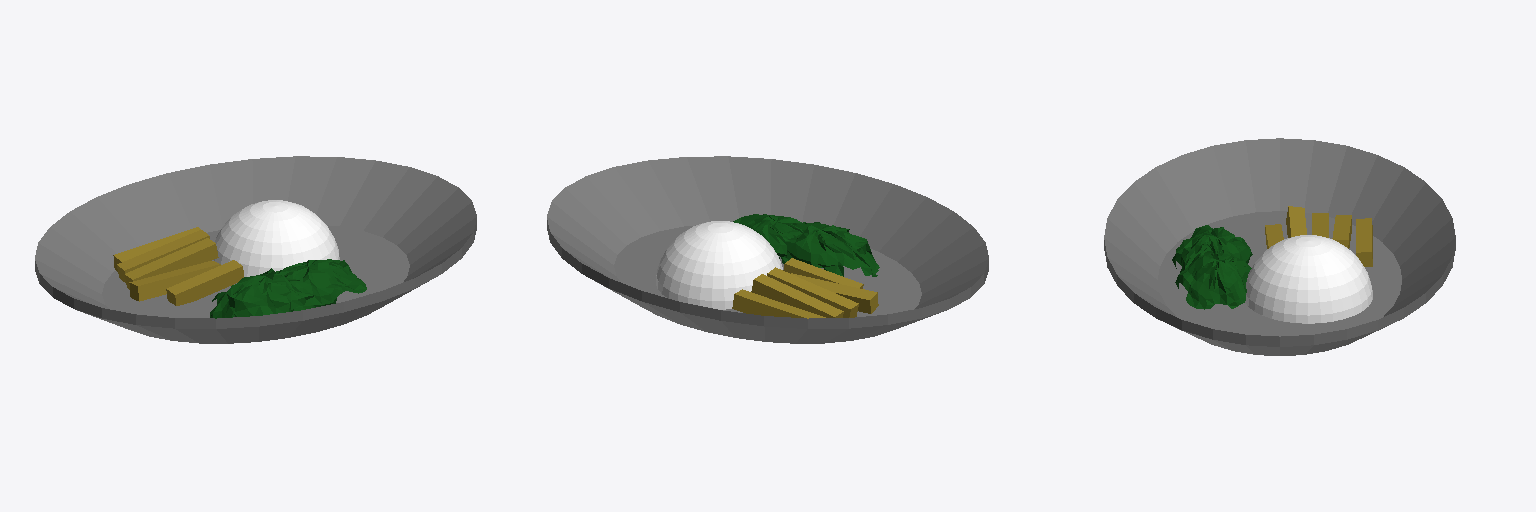
The model's file is rice1_meat2_veg2.obj.
The picture shows the model from 3 angles: view 1: azimuth 30°, elevation 25°; view 2: azimuth 150°, elevation 25°; view 3: azimuth 270°, elevation 25°; orthographic projection.
Parts seen in each view (by area): view 1: Cylinder, Sphere, Sphere.002, Sphere.001, Cube.004_Cube.005, Cube.001_Cube.002, Cube.002_Cube.003, Cube_Cube.001, Cube.003_Cube.004; view 2: Cylinder, Sphere, Sphere.002, Cube_Cube.001, Sphere.001, Cube.003_Cube.004, Cube.001_Cube.002, Cube.002_Cube.003, Cube.004_Cube.005; view 3: Cylinder, Sphere, Sphere.001, Sphere.002, Cube.003_Cube.004, Cube.002_Cube.003.
Part boxes in pixels (x1,y1,x2,y2): Cylinder: (35, 156, 476, 343); Sphere: (212, 200, 339, 276); Sphere.002: (210, 268, 313, 318); Sphere.001: (278, 259, 366, 311); Cube.004_Cube.005: (166, 260, 243, 305); Cube.001_Cube.002: (125, 238, 218, 289); Cube.002_Cube.003: (129, 261, 220, 301); Cube_Cube.001: (117, 230, 209, 282); Cube.003_Cube.004: (113, 227, 200, 271); Cylinder: (547, 156, 988, 343); Sphere: (656, 221, 782, 309); Sphere.002: (779, 222, 879, 276); Cube_Cube.001: (751, 274, 843, 317); Sphere.001: (733, 214, 802, 263); Cube.003_Cube.004: (732, 289, 825, 318); Cube.001_Cube.002: (767, 267, 858, 317); Cube.002_Cube.003: (791, 273, 878, 313); Cube.004_Cube.005: (783, 258, 863, 288); Cylinder: (1104, 138, 1455, 355); Sphere: (1245, 235, 1372, 323); Sphere.001: (1175, 249, 1251, 309); Sphere.002: (1172, 225, 1252, 269); Cube.003_Cube.004: (1356, 218, 1372, 266); Cube.002_Cube.003: (1286, 206, 1306, 237).
Bounding box in the file's own units: 5.75 × 0.85 × 4.31.